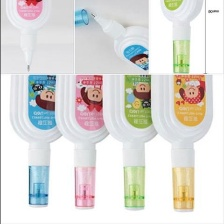correction_fluid: (149, 52, 216, 214), (53, 53, 118, 211), (99, 52, 163, 212), (7, 53, 68, 208), (88, 11, 167, 75), (157, 0, 206, 74), (3, 0, 52, 74)
